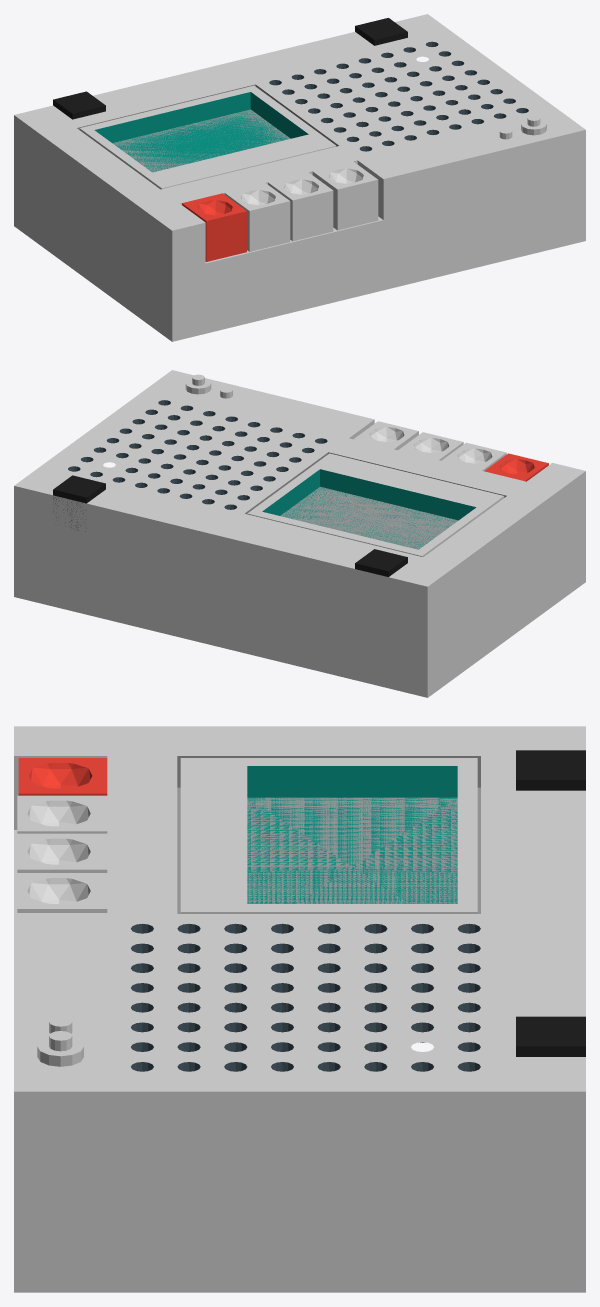
File: casette.glb
3 views of the same model, one above another, from view 1: azimuth 30°, elevation 25°; view 2: azimuth 150°, elevation 25°; view 3: azimuth 270°, elevation 25° (orthographic). The views are drawn at different scales.
Parts seen in each view (by area): view 1: Node; view 2: Node; view 3: Node.
Boxes of the visible parts, x1=… form: Node: x1=14, y1=14, x2=585, y2=341; Node: x1=14, y1=370, x2=585, y2=697; Node: x1=14, y1=726, x2=585, y2=1292.
Bounding box in the file's own units: 0.74 × 0.21 × 0.49.
